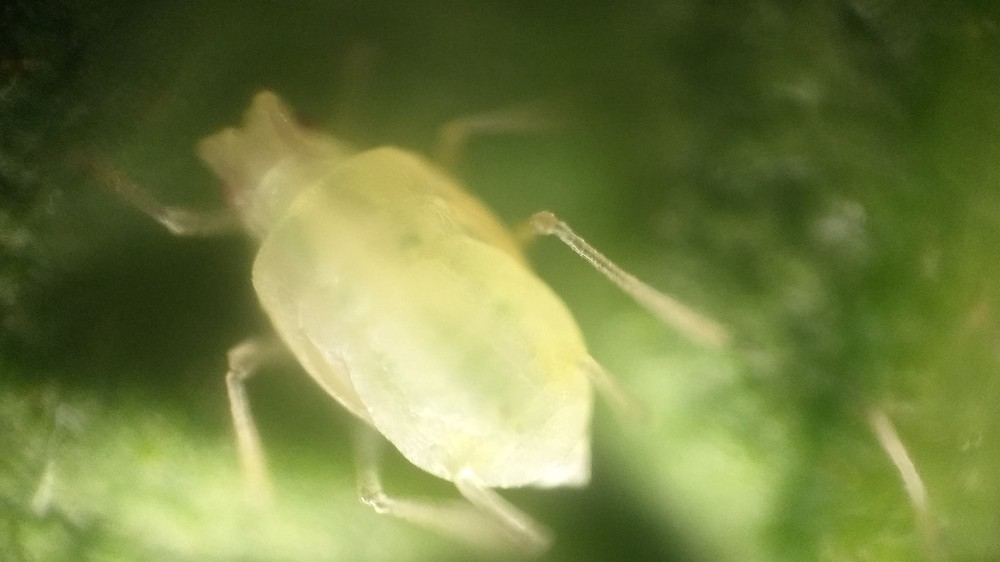Pulgon: (128, 73, 752, 558)
